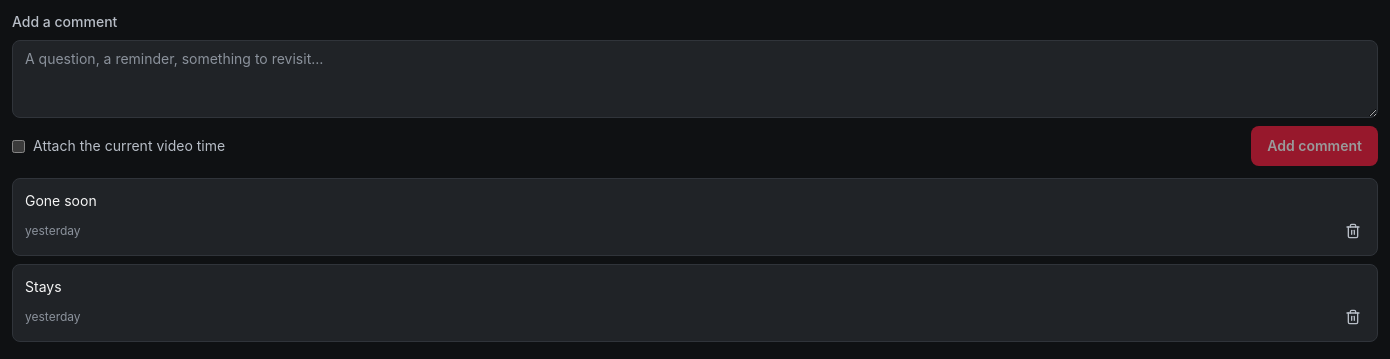
Test: comments panel › deletes a comment
What coordinates should you click on to do the following:
click the 1st button named "Delete comment"
I would click on:
 (1353, 231)
Its box is x1=1341 y1=219 x2=1365 y2=243.
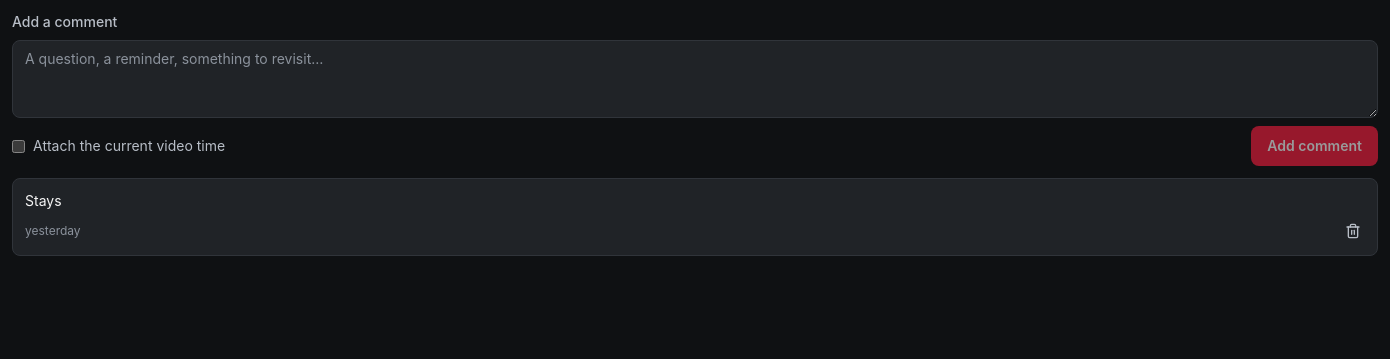
Expected: the text "Stays" is shown, x1=25 y1=192 x2=62 y2=209
Expected: the text "Gone soon" is gone
